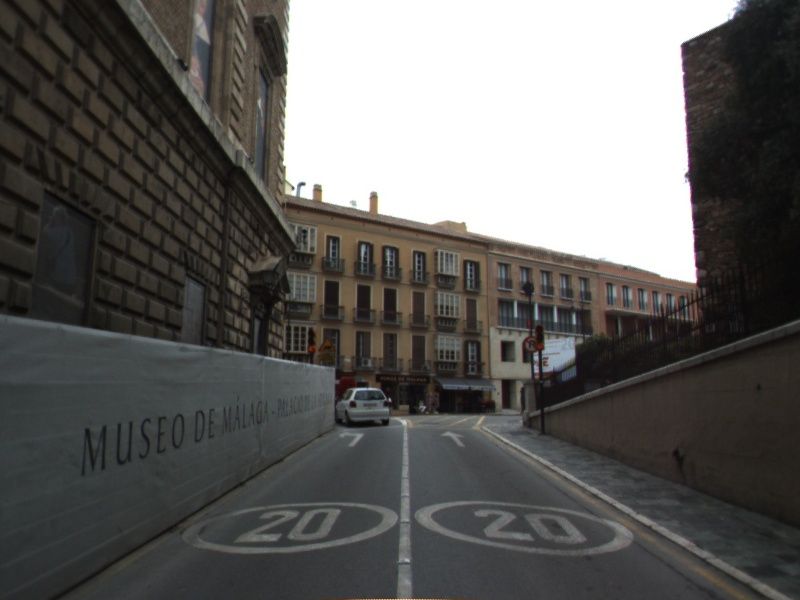LEFT: (337, 430, 366, 448)
STRAIGHT: (439, 428, 468, 448)
